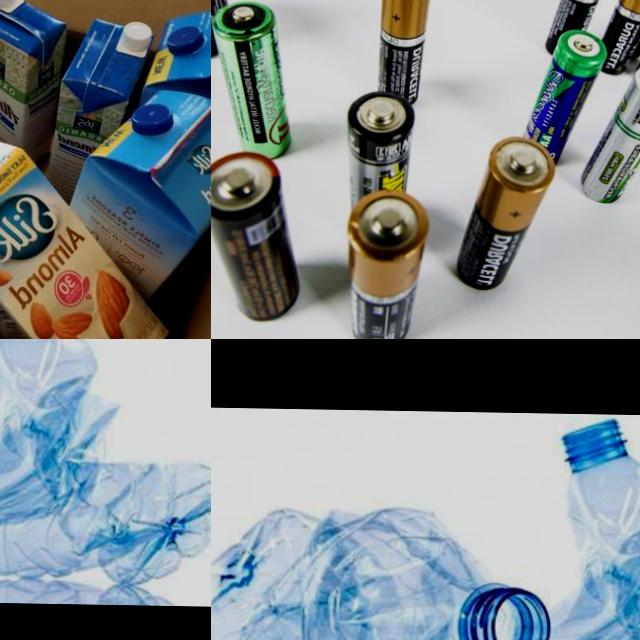bateria: (456, 134, 556, 290), (211, 151, 299, 324), (211, 0, 291, 160), (345, 188, 429, 339), (523, 30, 606, 168), (344, 89, 414, 214), (579, 65, 640, 203), (380, 0, 430, 105), (545, 0, 617, 55), (596, 0, 640, 75)
caixinha: (0, 122, 174, 339), (68, 85, 211, 306), (44, 17, 152, 207), (0, 0, 67, 166), (138, 0, 211, 137)
garrafa plástica: (0, 339, 211, 587), (211, 504, 550, 640), (499, 413, 640, 640)
tampa plástica: (130, 102, 175, 136), (118, 20, 154, 53), (166, 25, 204, 56)
